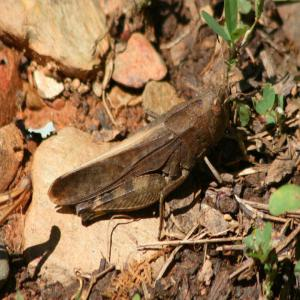locust: (39, 69, 236, 227)
